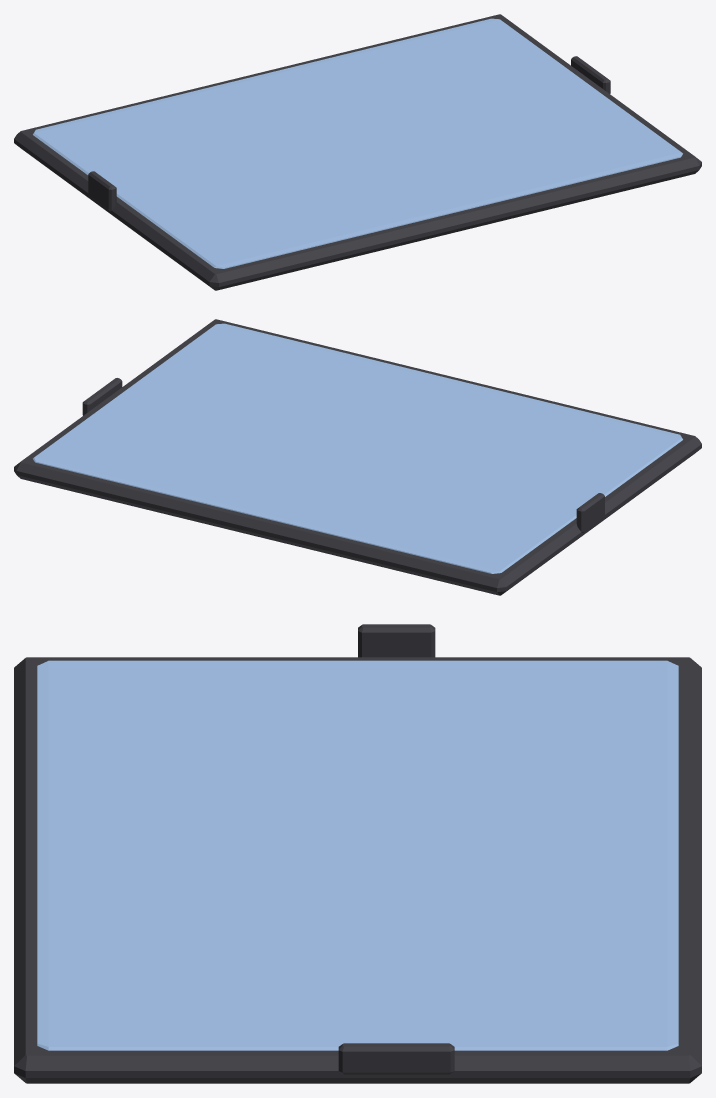
File: tablet-11.glb
3 views of the same model, one above another, from view 1: azimuth 30°, elevation 25°; view 2: azimuth 150°, elevation 25°; view 3: azimuth 270°, elevation 25° (orthographic). The views are drawn at different scales.
Parts seen in each view (by area): view 1: tablet-11; view 2: tablet-11; view 3: tablet-11.
Part boxes in pixels (<box>): tablet-11: <box>14,14,701,290</box>; tablet-11: <box>14,319,701,595</box>; tablet-11: <box>14,624,701,1083</box>.
Bounding box in the file's own units: 0.252 × 0.0218 × 0.178.
